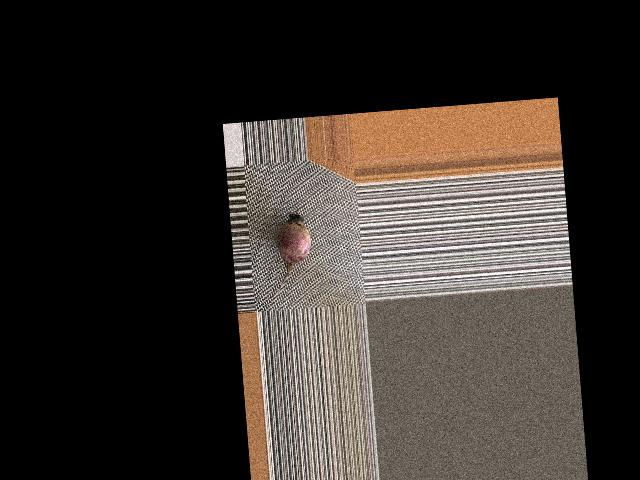beet: (260, 209, 314, 300)
